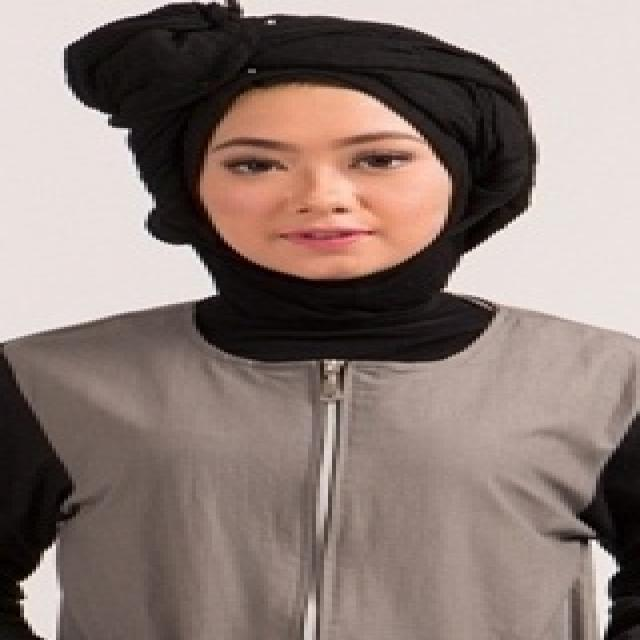head: (138, 24, 501, 294)
